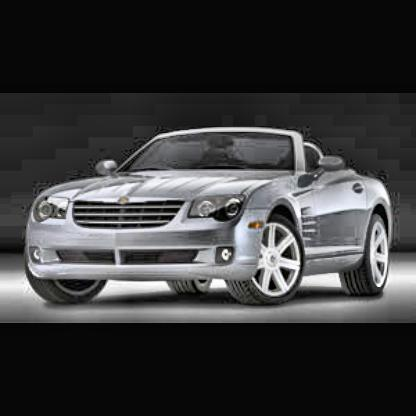Chrysler Crossfire Convertible 2008: (25, 128, 392, 305)
